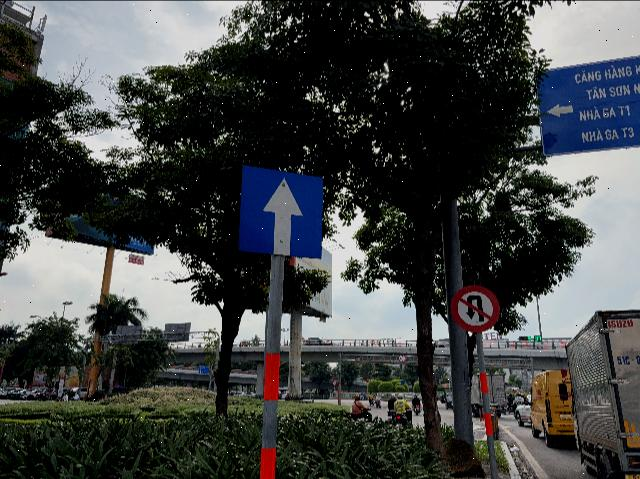cam-quay-dau-xe: (450, 285, 501, 333)
duong-mot-chieu: (238, 165, 324, 260)
